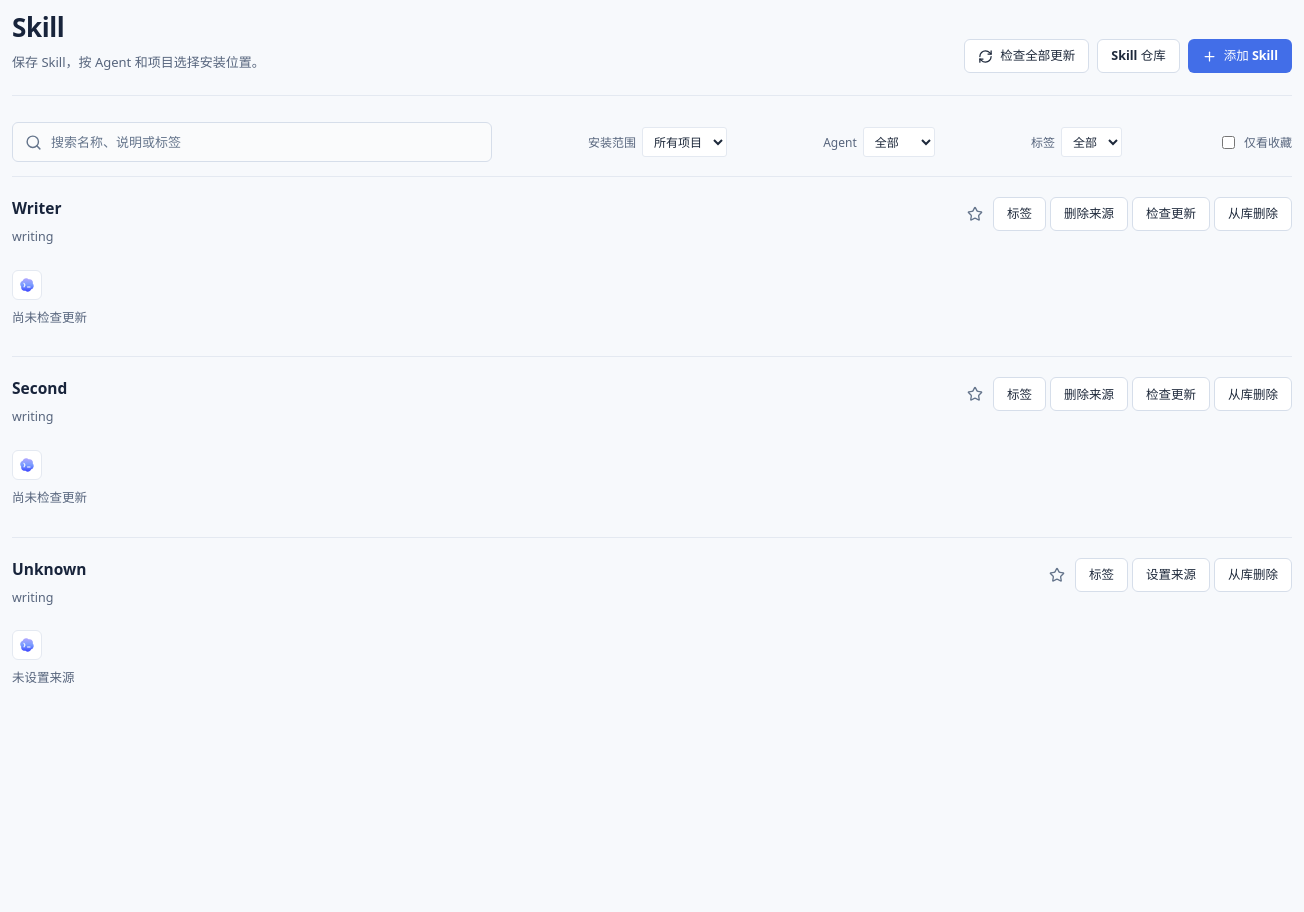
Test case: checks all bound Skills and continues after a failure, skipping unknown sources
Click the button "检查全部更新" at (1027, 56), box [964,39,1089,73]
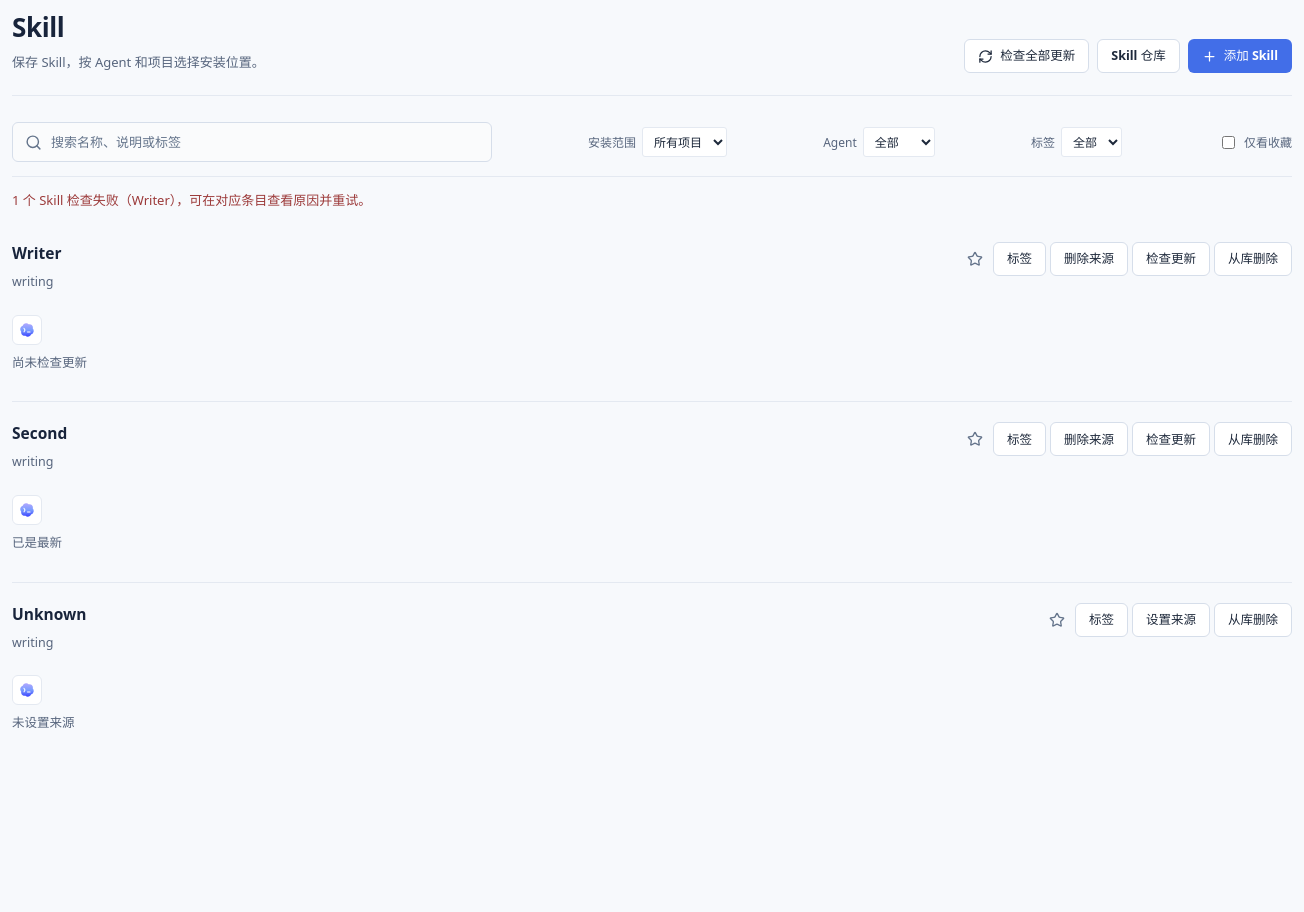
Expected: the text "已是最新" is shown, [12,533,62,554]
Expected: the message shows "1 个 Skill 检查失败（Writer）", [12,191,371,209]
